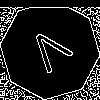V: (25, 25, 80, 82)
